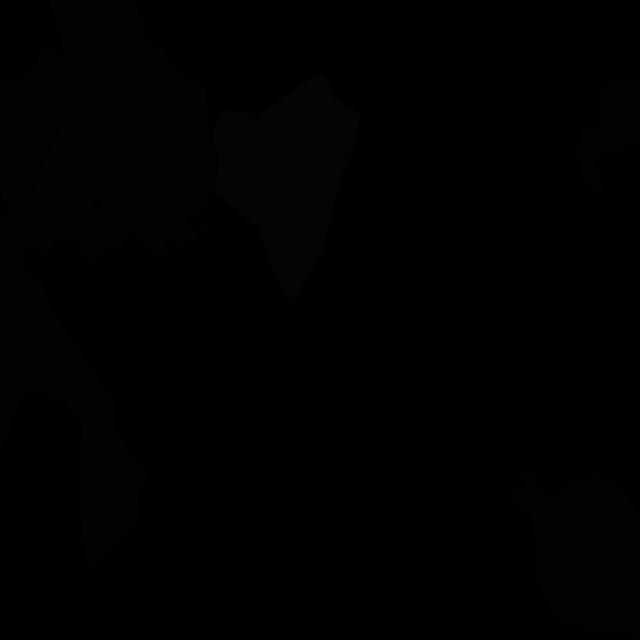cardboard: (0, 39, 158, 570), (48, 0, 218, 263), (508, 468, 640, 640), (578, 77, 640, 194)
metal: (27, 116, 105, 217)
soft_plastic: (212, 72, 360, 305)
